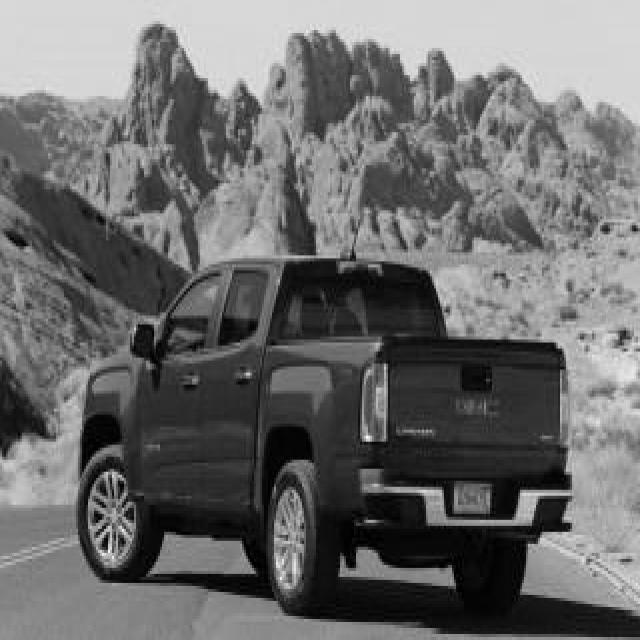Car: (78, 255, 572, 612)
